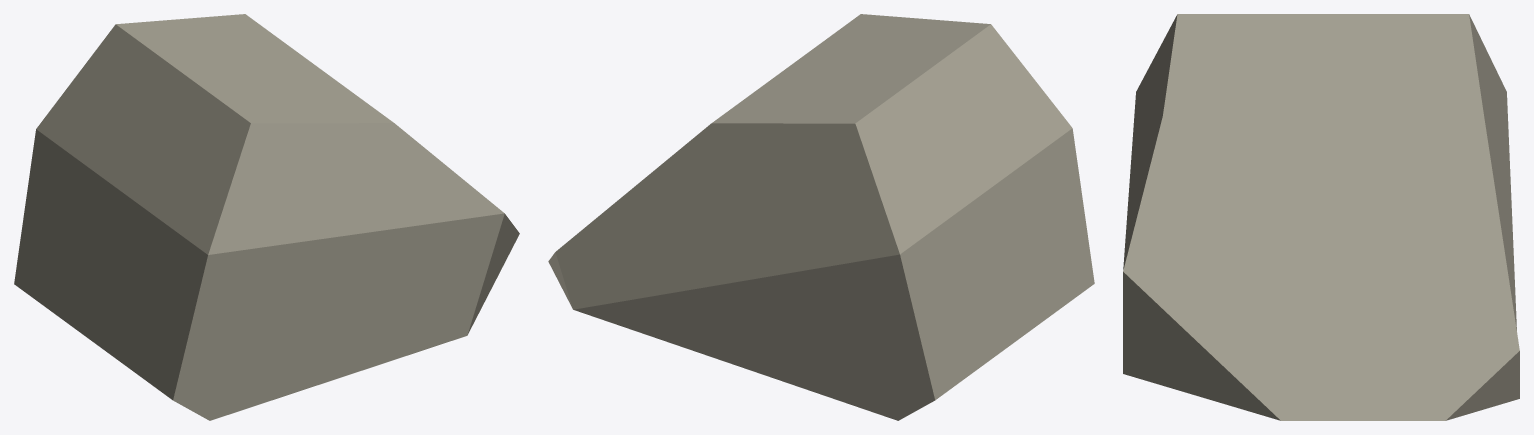
File: Rock1_tex.fbx
3 renders of one model, left to right at view 1: azimuth 30°, elevation 25°; view 2: azimuth 150°, elevation 25°; view 3: azimuth 270°, elevation 25°, orthographic. The views are drawn at different scales.
Visible parts, largest first — view 1: Rock1_tex; view 2: Rock1_tex; view 3: Rock1_tex.
Boxes of the visible parts, x1=… form: Rock1_tex: x1=14, y1=14, x2=519, y2=420; Rock1_tex: x1=548, y1=14, x2=1094, y2=420; Rock1_tex: x1=1123, y1=14, x2=1519, y2=420.
Size of the model in its own units: 0.6051 by 0.3905 by 0.4732.
